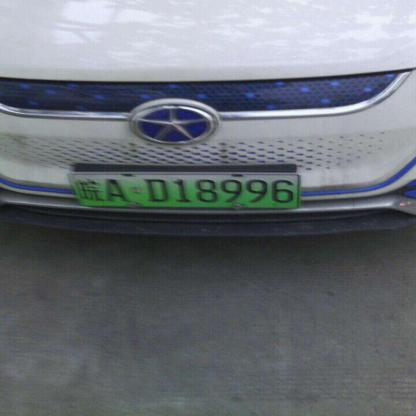lp: (69, 173, 298, 207)
